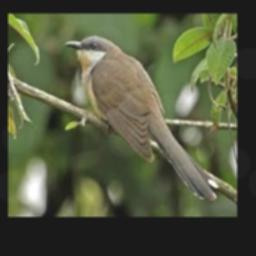Cuckoo: (64, 35, 218, 200)
